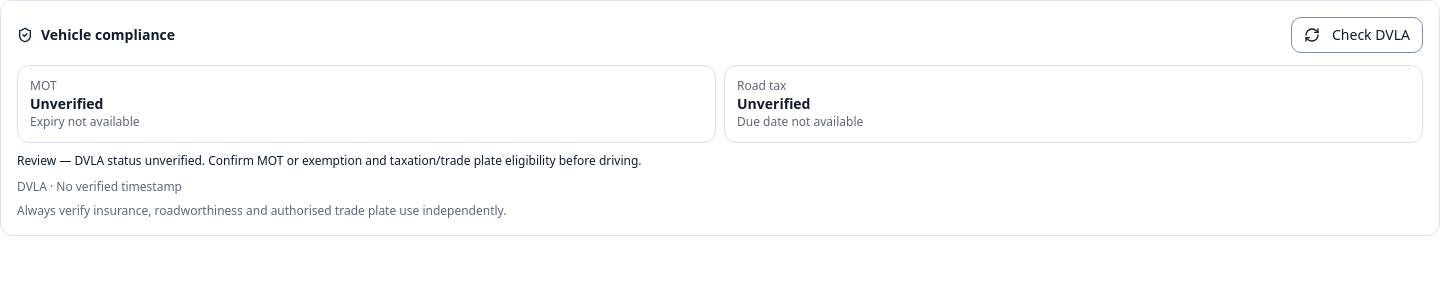
Scenario: manual pre-pickup compliance › shows an actionable warning on service rejection
Step 1. Click the button "Check DVLA" → (1357, 35), box [1291,17,1423,53]
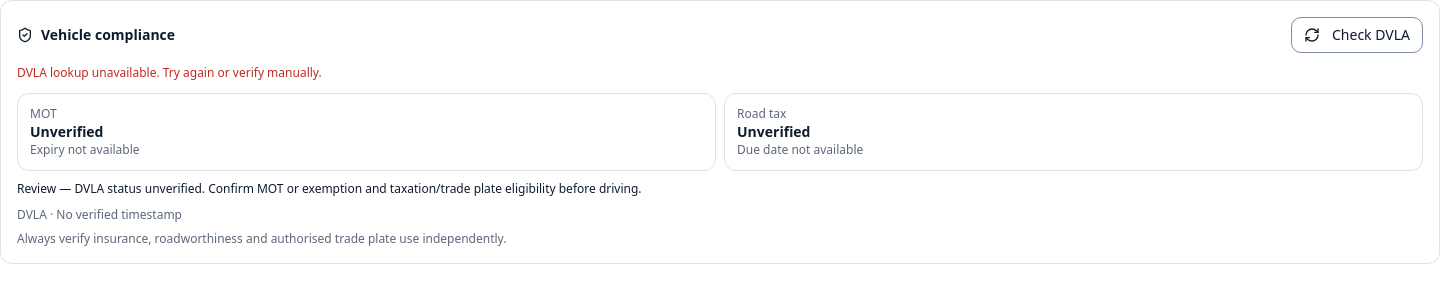
Expected: the message shows "verify manually", [17,64,322,81]
